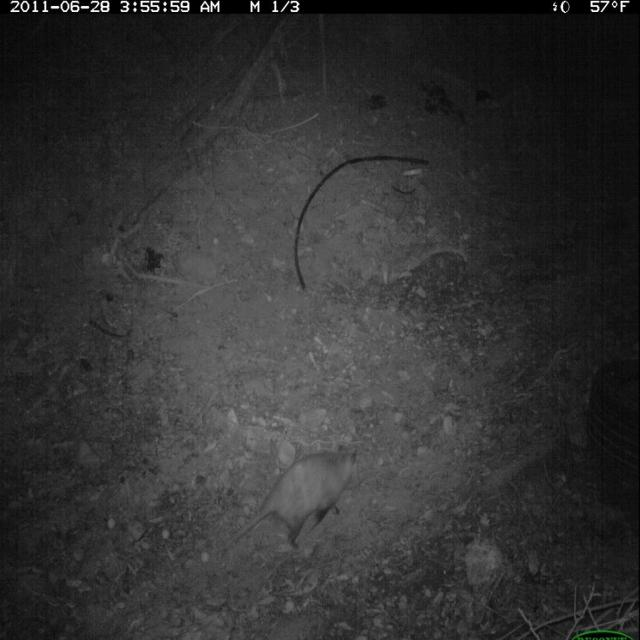opossum: (220, 436, 366, 561)
